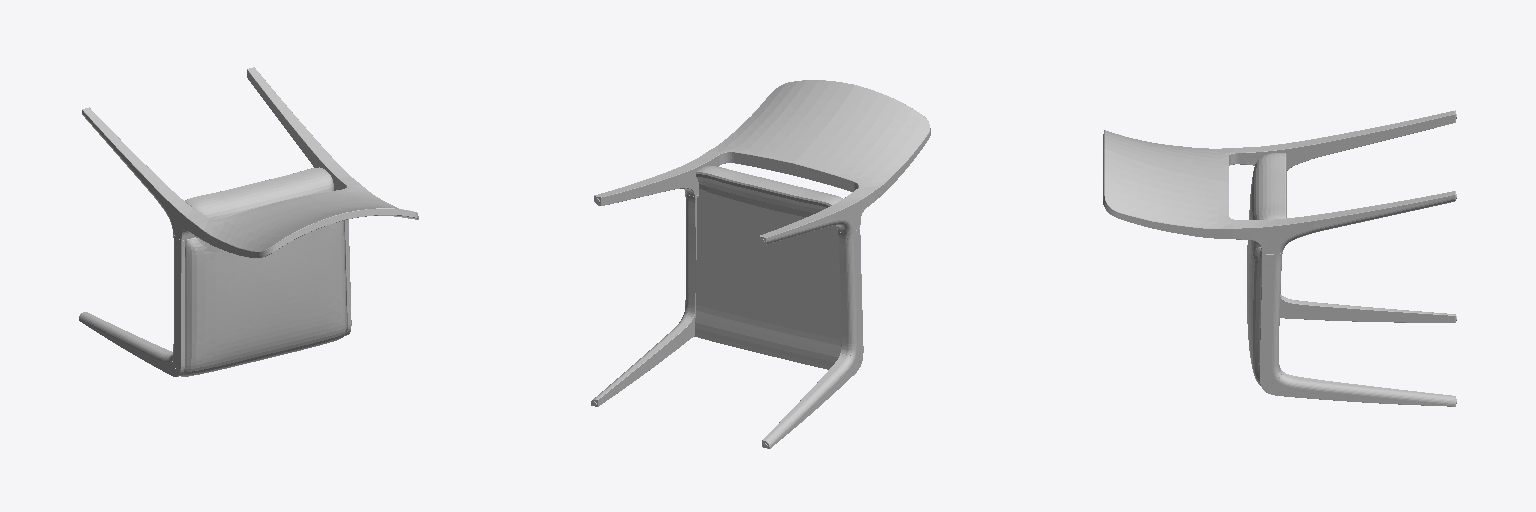
File: willisau_riale.bf788a9a.obj
3 renders of one model, left to right at view 1: azimuth 30°, elevation 25°; view 2: azimuth 150°, elevation 25°; view 3: azimuth 270°, elevation 25°, orthographic.
Visible parts, largest first — view 1: willisau_riale; view 2: willisau_riale; view 3: willisau_riale.
Boxes of the visible parts, x1,y1,x2,y2 form: willisau_riale: [79, 67, 418, 376]; willisau_riale: [591, 80, 930, 448]; willisau_riale: [1103, 110, 1456, 406].
Bounding box in the file's own units: 47.37 × 54.01 × 80.93.